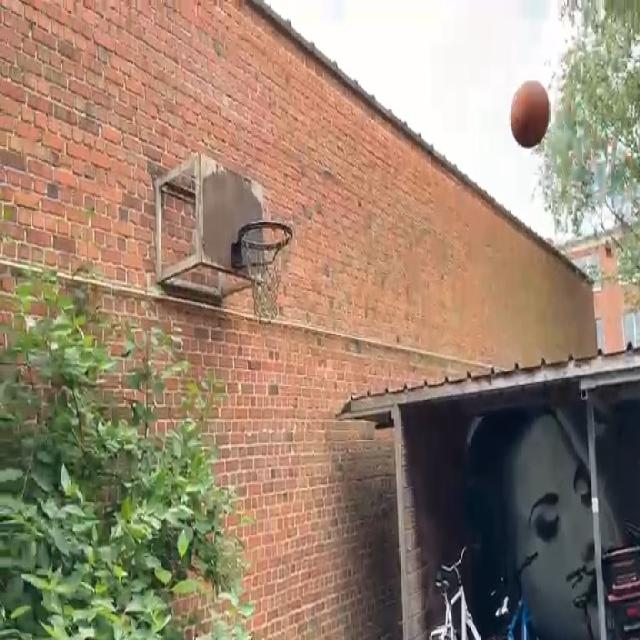Basketball: (510, 81, 551, 148)
